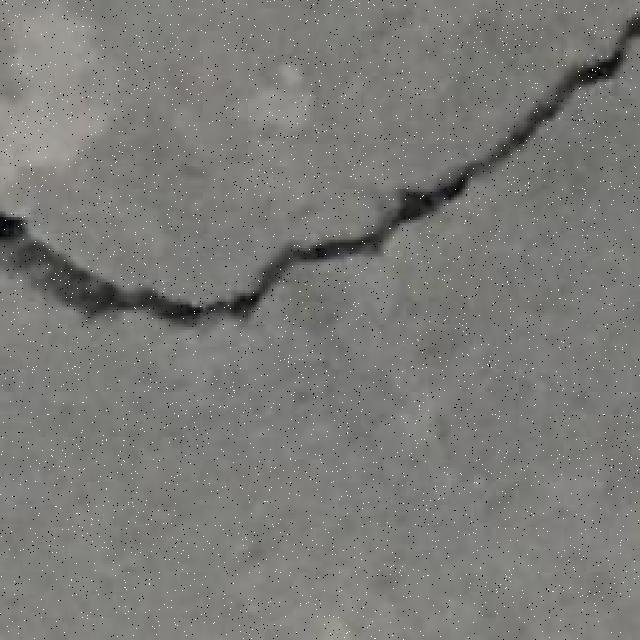crack: (2, 8, 638, 327), (1, 218, 241, 327)
dampness: (5, 262, 640, 635)
